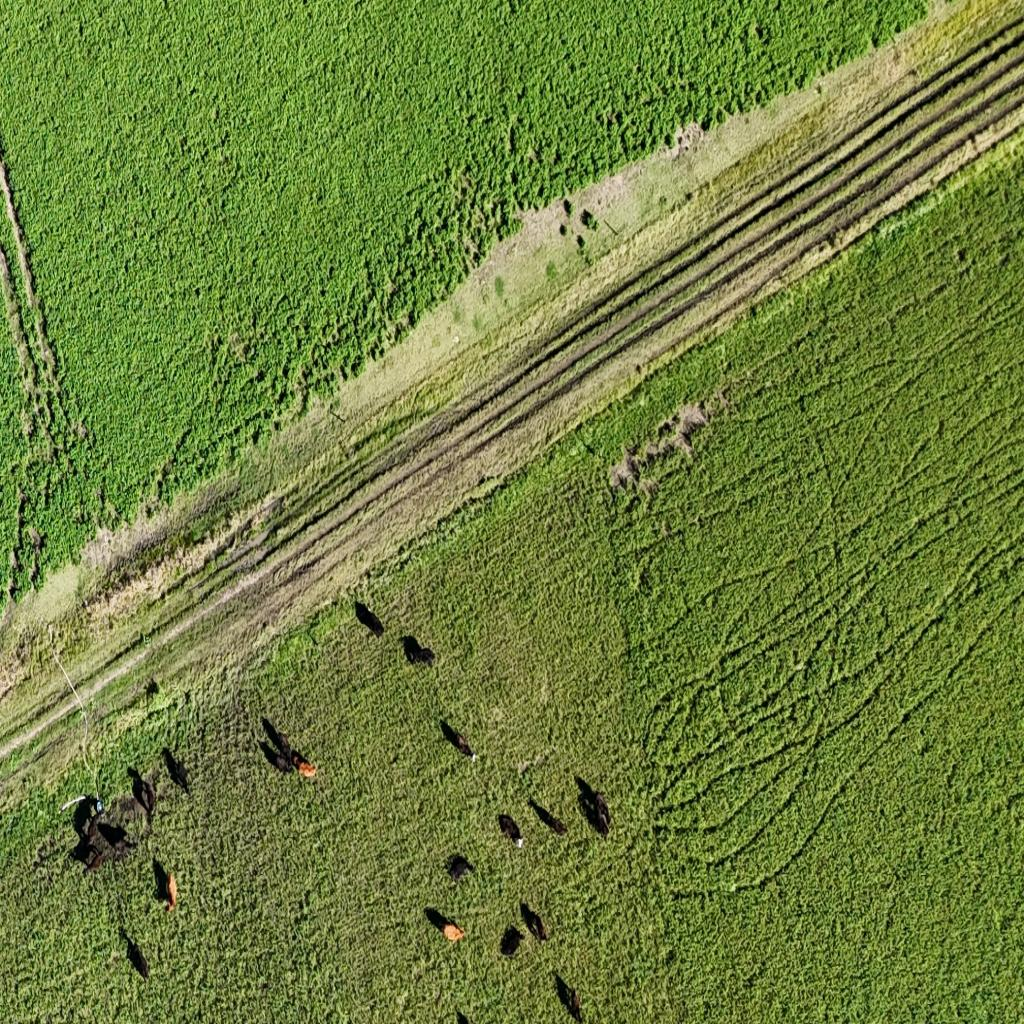cow: (427, 905, 471, 946), (96, 821, 137, 863), (261, 718, 293, 770), (74, 818, 106, 870), (128, 766, 157, 822), (440, 719, 475, 761), (530, 799, 568, 836), (153, 858, 178, 914), (123, 930, 150, 981), (554, 972, 582, 1021), (353, 598, 385, 637), (520, 902, 548, 944), (402, 634, 436, 668), (164, 748, 190, 792), (498, 813, 525, 850), (73, 798, 98, 836), (592, 790, 611, 836), (447, 855, 475, 885), (500, 925, 524, 958), (294, 755, 318, 780), (575, 776, 596, 804), (455, 1008, 471, 1024)
